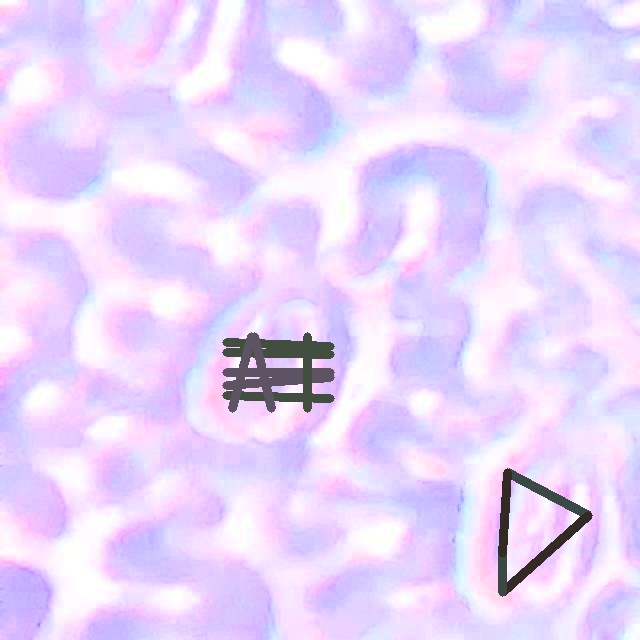close: (499, 468, 591, 596)
open: (222, 332, 333, 412)
